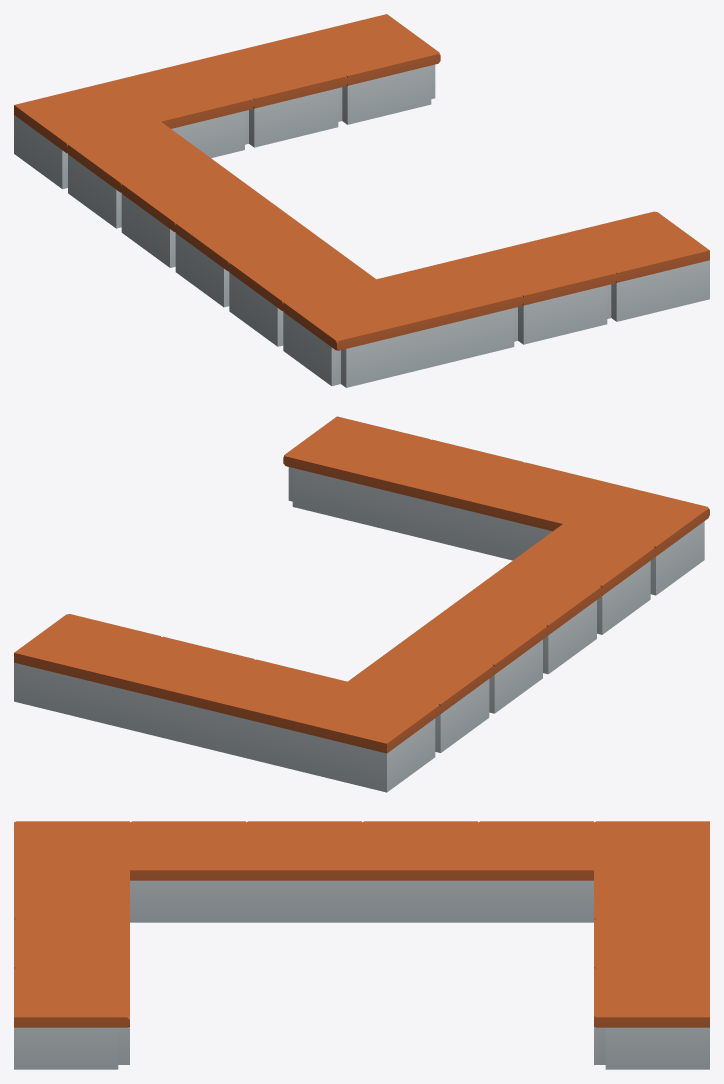
File: tezgah_butun.fbx
3 views of the same model, one above another, from view 1: azimuth 30°, elevation 25°; view 2: azimuth 150°, elevation 25°; view 3: azimuth 270°, elevation 25° (orthographic). The views are drawn at different scales.
Visible parts, largest first — view 1: tezgah.005, tezgah.008, tezgah.010, tezgah.011, tezgah.007, tezgah.006, tezgah.009, tezgah.001, tezgah.002, tezgah, tezgah.003, tezgah.004; view 2: tezgah.004, tezgah.007, tezgah.011, tezgah.009, tezgah.010, tezgah.008, tezgah.006, tezgah.003, tezgah.005, tezgah.001, tezgah.002, tezgah; view 3: tezgah, tezgah.001, tezgah.002, tezgah.003, tezgah.008, tezgah.011, tezgah.006, tezgah.007, tezgah.009, tezgah.010, tezgah.004, tezgah.005.
Part boxes in pixels (x1,y1,x2,y2): tezgah.005: (283, 279, 430, 387); tezgah.008: (563, 211, 709, 321); tezgah.010: (201, 37, 347, 147); tezgah.011: (294, 14, 440, 124); tezgah.007: (470, 234, 616, 344); tezgah.006: (377, 256, 523, 367); tezgah.009: (107, 59, 254, 158); tezgah.001: (175, 200, 321, 307); tezgah.002: (121, 161, 268, 267); tezgah: (229, 240, 375, 346); tezgah.003: (68, 121, 214, 228); tezgah.004: (14, 82, 160, 189); tezgah.004: (293, 681, 440, 792); tezgah.007: (376, 439, 523, 549); tezgah.011: (14, 614, 160, 724); tezgah.009: (200, 659, 346, 769); tezgah.010: (107, 636, 254, 746); tezgah.008: (283, 416, 430, 526); tezgah.006: (469, 462, 616, 560); tezgah.003: (348, 642, 494, 752); tezgah.005: (563, 484, 709, 595); tezgah.001: (455, 563, 602, 674); tezgah.002: (402, 603, 548, 713); tezgah: (509, 524, 655, 634); tezgah: (130, 821, 245, 922); tezgah.001: (246, 821, 361, 922); tezgah.002: (362, 821, 477, 922); tezgah.003: (478, 821, 593, 922); tezgah.008: (14, 968, 129, 1069); tezgah.011: (594, 968, 709, 1069); tezgah.006: (14, 870, 129, 919); tezgah.007: (14, 919, 129, 968); tezgah.009: (594, 870, 709, 919); tezgah.010: (594, 919, 709, 968); tezgah.004: (594, 821, 709, 870); tezgah.005: (14, 821, 129, 870).
Size of the model in its own units: 800 by 100 by 1200.
1 material, 1 textured.
